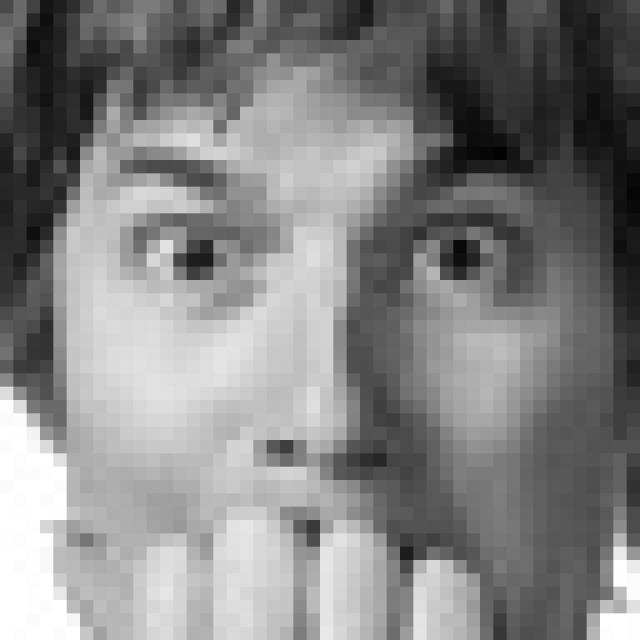fear: (97, 131, 556, 619)
